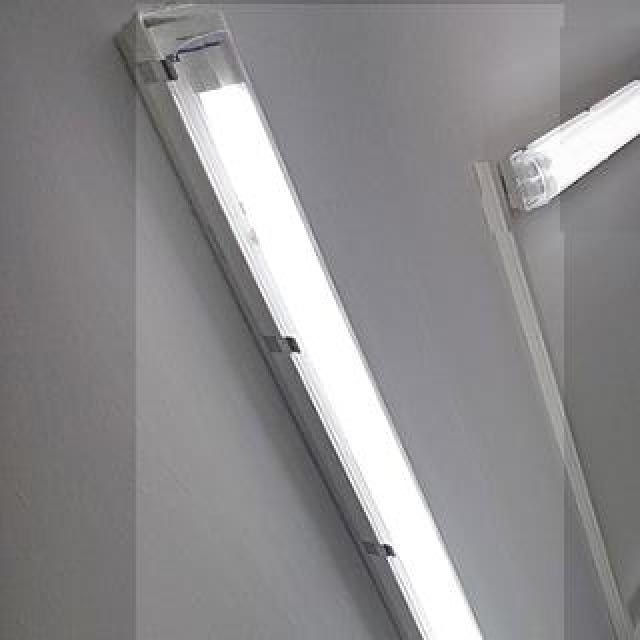fluorescent tube: (136, 12, 572, 640), (470, 10, 640, 298), (630, 432, 640, 640)
